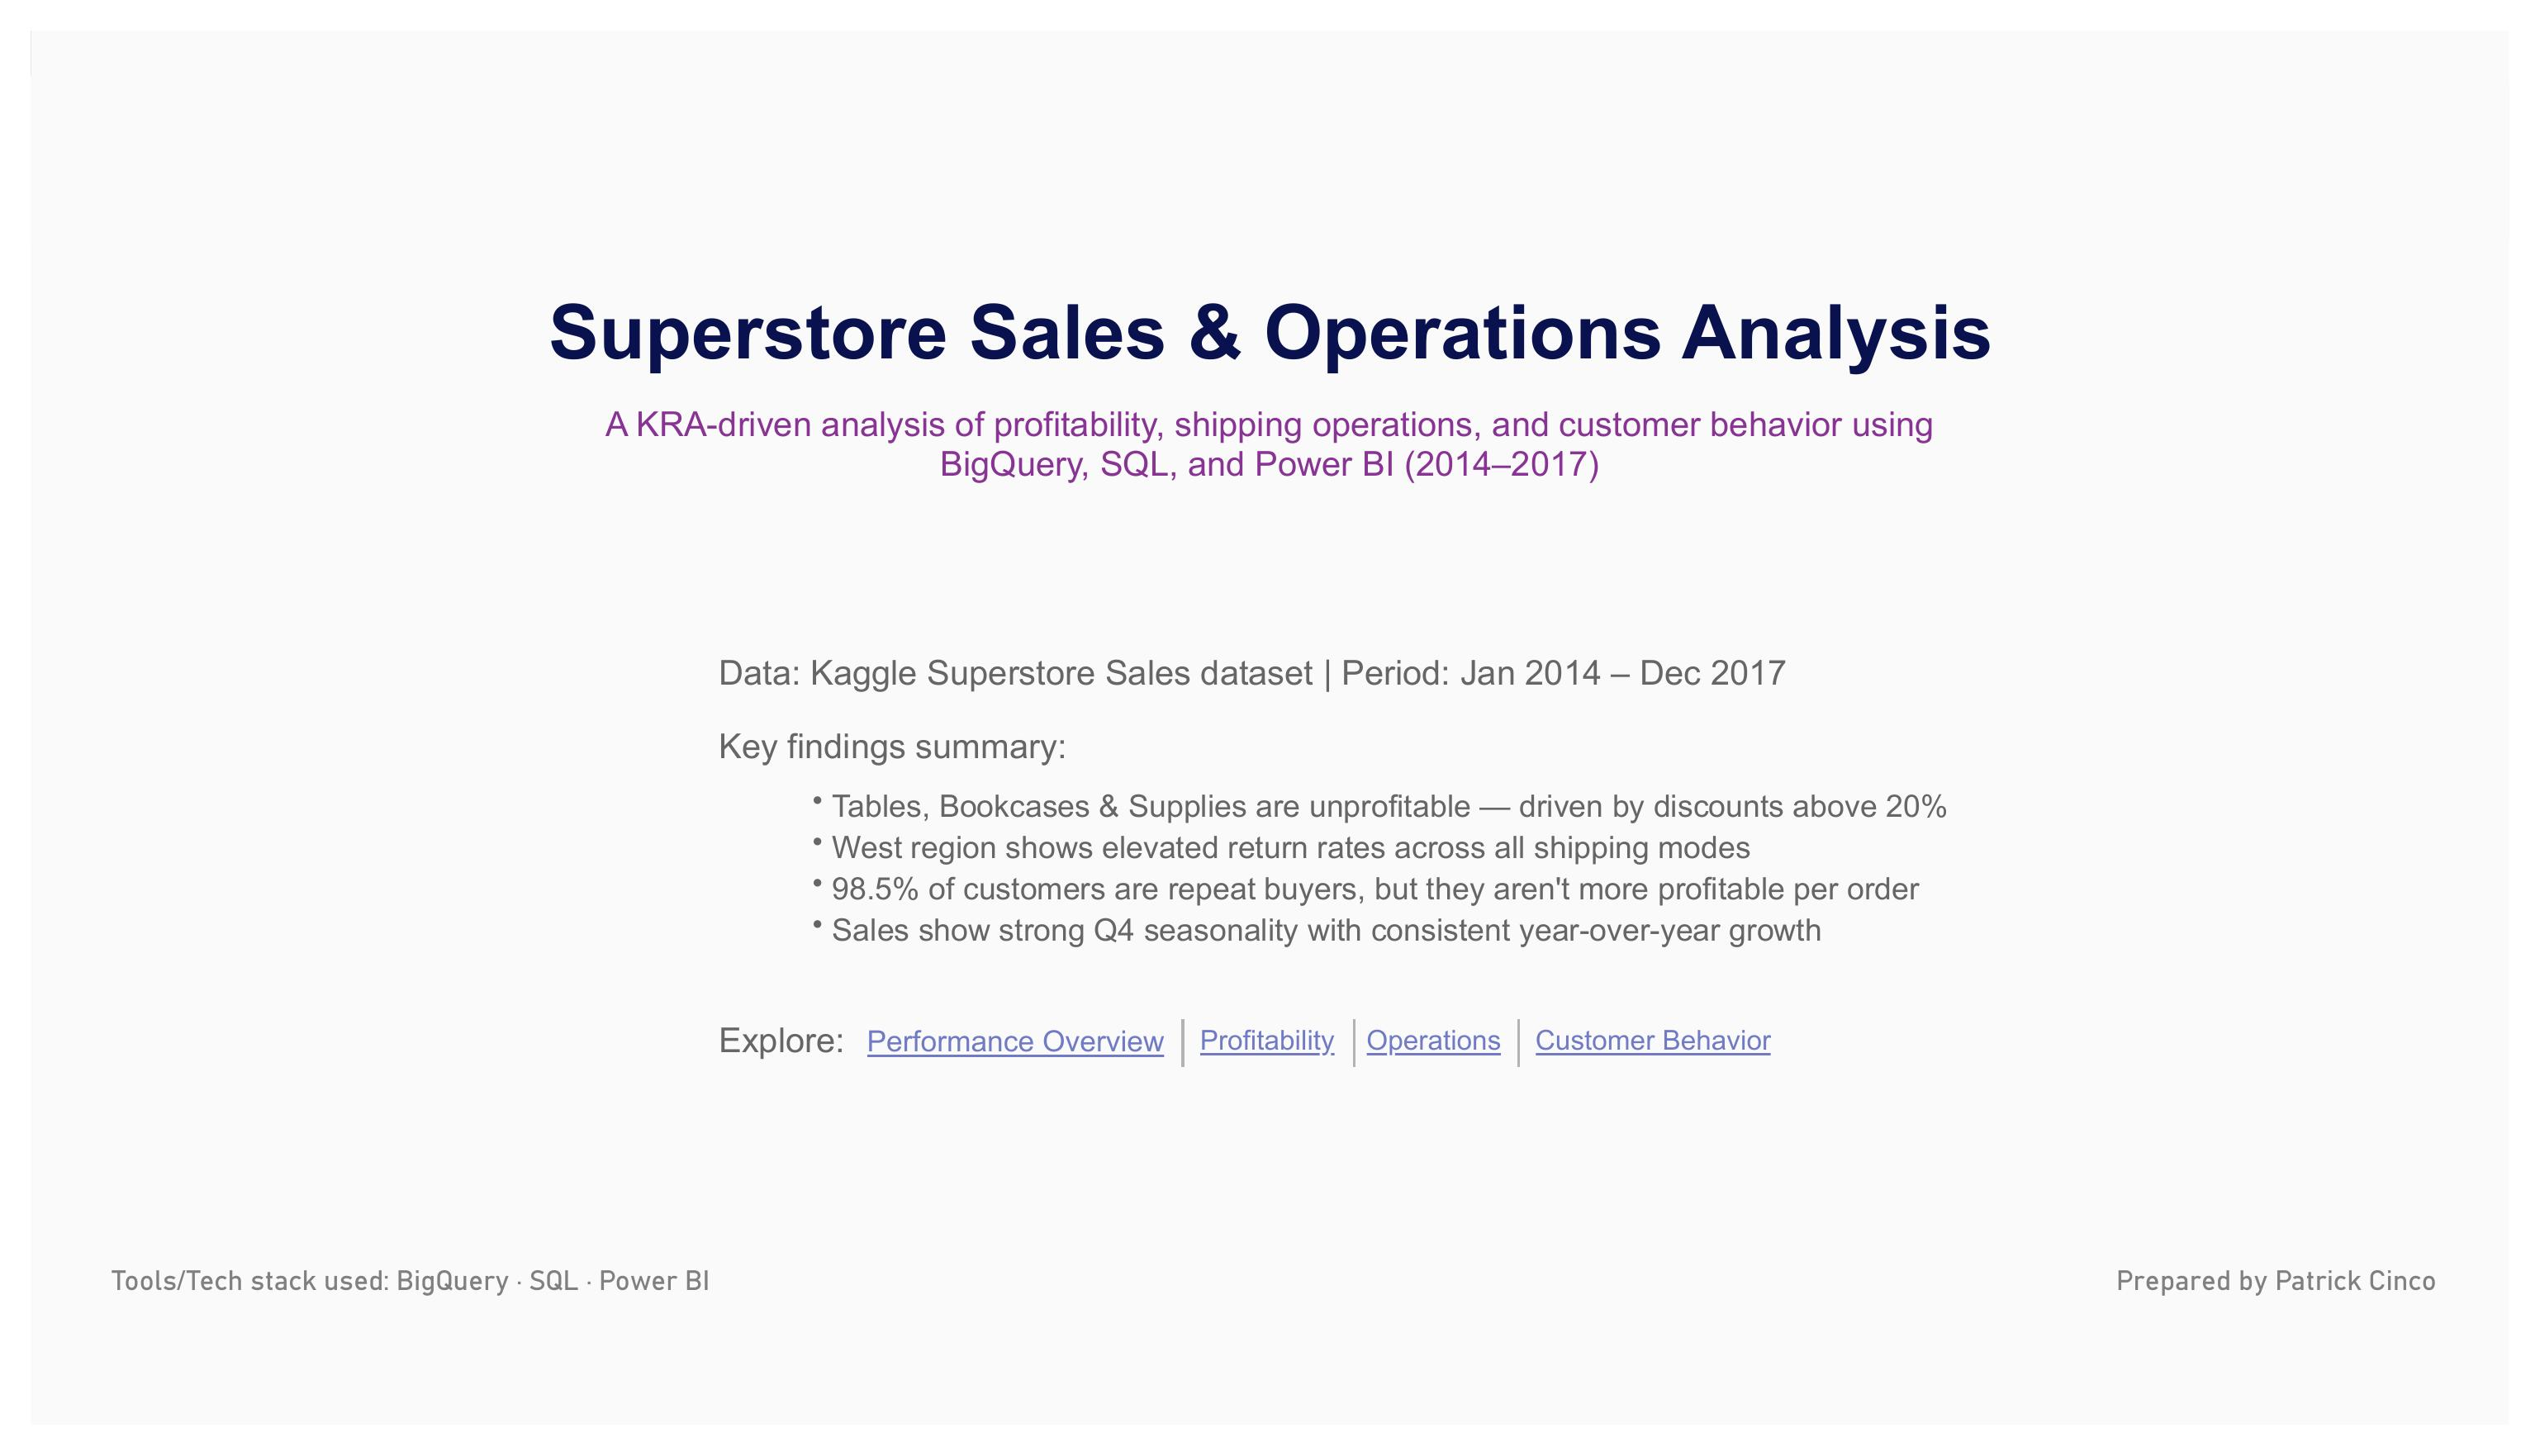

The dashboard page shown, as its layout file describes it:
{"tool":"powerbi","page":{"name":"Title_Page","canvas":[1920,1080],"ordinal":0},"visuals":[{"type":"textbox","box":[325,200,1271.7,111.7],"z":0},{"type":"textbox","box":[406.7,290,1106.7,86.7],"z":1000},{"type":"textbox","box":[533.3,483.3,856.7,56.7],"z":2000},{"type":"textbox","box":[585,583.3,1045,165],"z":3000},{"type":"textbox","box":[62,956,555,48.3],"z":4000},{"type":"textbox","box":[1512,956,351.7,40],"z":5000},{"type":"textbox","box":[533.3,540,820,56.7],"z":6000},{"type":"shape","box":[900.7,749.6,114,66],"z":7000},{"type":"shape","box":[1027.3,749.6,120,66],"z":8000},{"type":"shape","box":[1160,749.6,194,66],"z":9000},{"type":"shape","box":[638,749.6,250,66],"z":10000},{"type":"textbox","box":[533.3,768,116,56],"z":11000},{"type":"shape","box":[885.6,765.7,13.3,37],"z":11001},{"type":"shape","box":[1018.9,765.7,13.3,37],"z":11002},{"type":"shape","box":[1145.6,765.7,13.3,37],"z":11003}]}

Visuals, with their boxes on the page's 1920x1080 design canvas (x1, y1, x2, y2). These are canvas units, not pixel positions in the 2540x1456 screenshot, which may show the page scaled, cropped or inside an application window:
textbox: box(325, 200, 1597, 312)
textbox: box(407, 290, 1513, 377)
textbox: box(533, 483, 1390, 540)
textbox: box(585, 583, 1630, 748)
textbox: box(62, 956, 617, 1004)
textbox: box(1512, 956, 1864, 996)
textbox: box(533, 540, 1353, 597)
shape: box(901, 750, 1015, 816)
shape: box(1027, 750, 1147, 816)
shape: box(1160, 750, 1354, 816)
shape: box(638, 750, 888, 816)
textbox: box(533, 768, 649, 824)
shape: box(886, 766, 899, 803)
shape: box(1019, 766, 1032, 803)
shape: box(1146, 766, 1159, 803)
